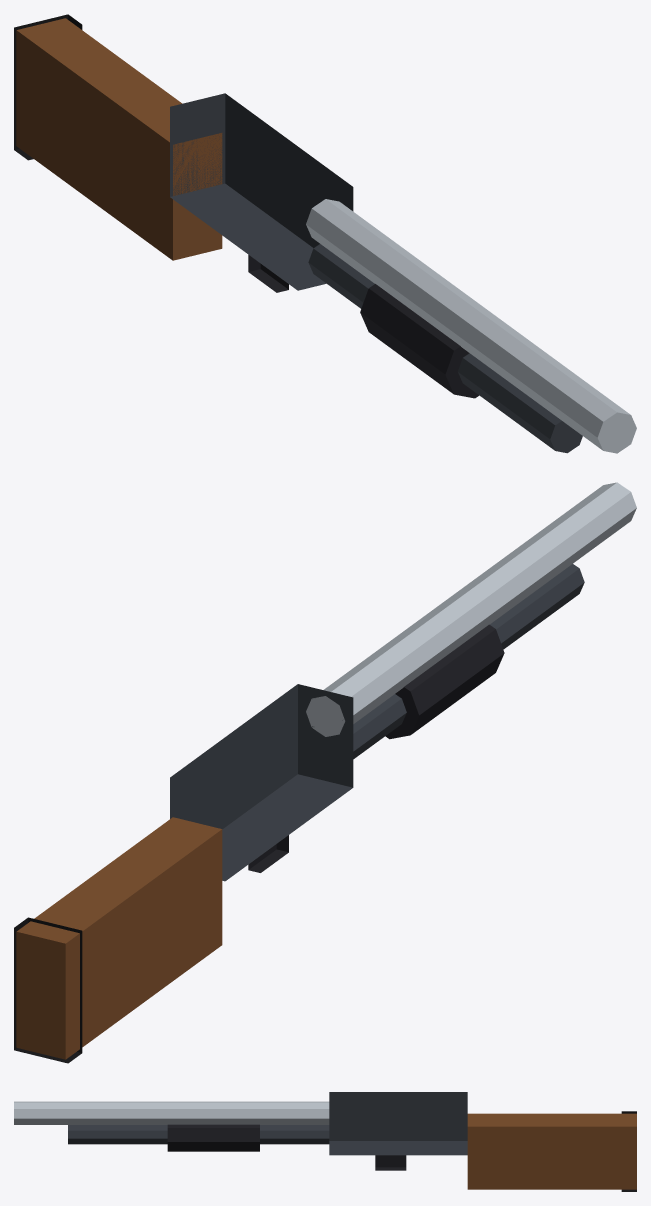
Rendered from Weapon_Shotgun.obj.
3 renders of one model, top to bottom at view 1: azimuth 30°, elevation 25°; view 2: azimuth 150°, elevation 25°; view 3: azimuth 270°, elevation 25°, orthographic. The views are drawn at different scales.
Visible parts, largest first — view 1: Stock, Receiver, Barrel, MagTube, Pump, ButtPad, TriggerGuard; view 2: Stock, Receiver, Barrel, MagTube, Pump, ButtPad; view 3: Stock, Receiver, Barrel, MagTube, Pump, TriggerGuard.
Part boxes in pixels (left/top/right/bottom): Stock: left=16, top=18, right=222, bottom=260; Receiver: left=170, top=93, right=353, bottom=290; Barrel: left=306, top=199, right=636, bottom=453; MagTube: left=308, top=244, right=582, bottom=453; Pump: left=360, top=284, right=478, bottom=398; ButtPad: left=14, top=14, right=82, bottom=160; TriggerGuard: left=248, top=255, right=288, bottom=292; Stock: left=16, top=817, right=222, bottom=1059; Receiver: left=170, top=684, right=353, bottom=881; Barrel: left=306, top=482, right=636, bottom=736; MagTube: left=308, top=564, right=584, bottom=773; Pump: left=385, top=624, right=504, bottom=739; ButtPad: left=14, top=917, right=82, bottom=1063; Stock: left=467, top=1113, right=636, bottom=1189; Receiver: left=329, top=1092, right=467, bottom=1155; Barrel: left=14, top=1101, right=329, bottom=1124; MagTube: left=68, top=1125, right=329, bottom=1144; Pump: left=167, top=1124, right=259, bottom=1151; TriggerGuard: left=375, top=1155, right=406, bottom=1170.
Size of the model in its own units: 0.048 by 0.1225 by 0.81.
